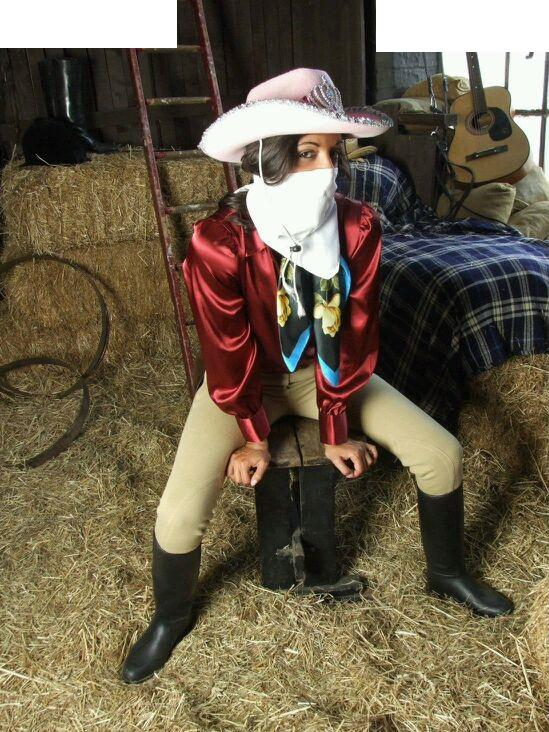OK: (263, 131, 347, 215)
